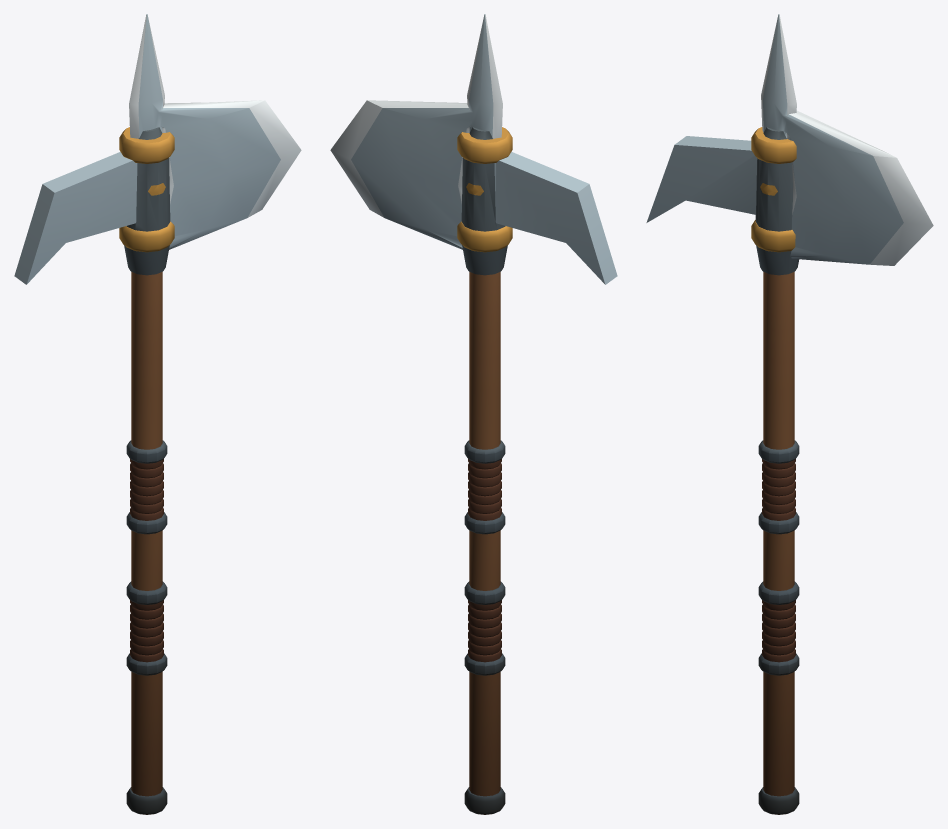
The model's file is halberd_steel.glb.
The picture shows the model from 3 angles, left to right: view 1: azimuth 30°, elevation 25°; view 2: azimuth 150°, elevation 25°; view 3: azimuth 330°, elevation 25°; orthographic projection.
Parts seen in each view (by area): view 1: Item; view 2: Item; view 3: Item.
Boxes of the visible parts, x1,y1,x2,y2 form: Item: [14, 14, 301, 814]; Item: [330, 14, 617, 814]; Item: [646, 14, 933, 814].
Bounding box in the file's own units: 1 × 2.7 × 0.17.
2 materials, 2 textured.
